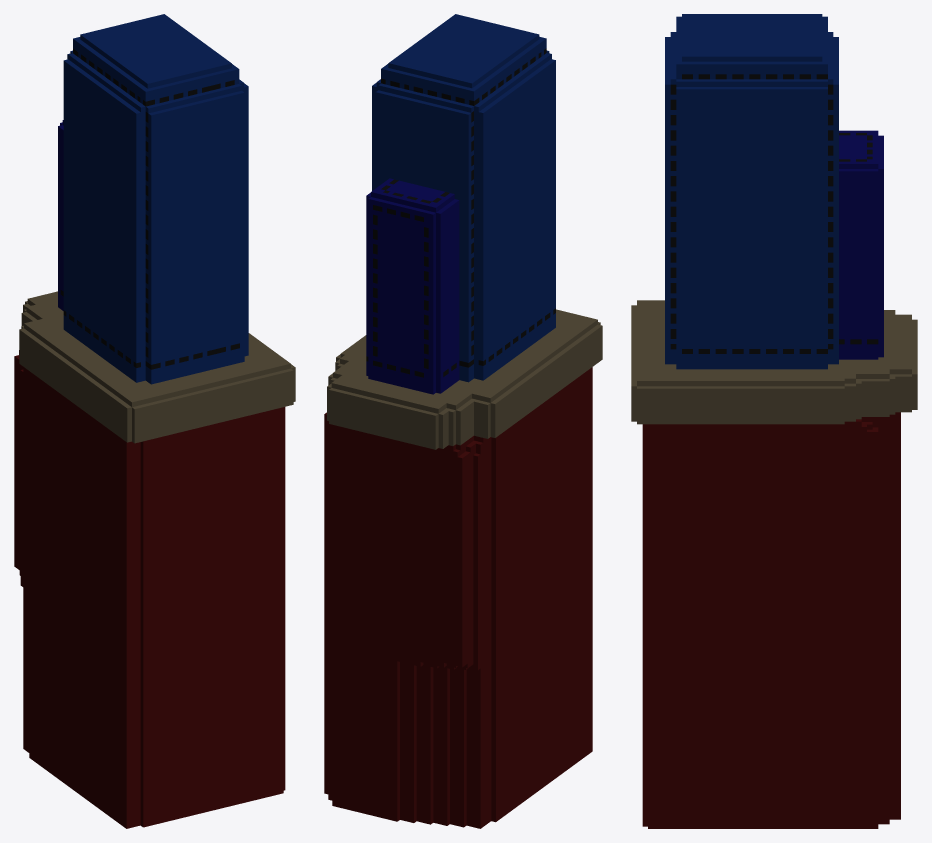
File: WinterGame-1.obj
3 renders of one model, left to right at view 1: azimuth 30°, elevation 25°; view 2: azimuth 150°, elevation 25°; view 3: azimuth 270°, elevation 25°, orthographic. The views are drawn at different scales.
Bounding box in the file's own units: 3.6 × 14.8 × 5.1.
Materials: 1 (1 with a texture image).
